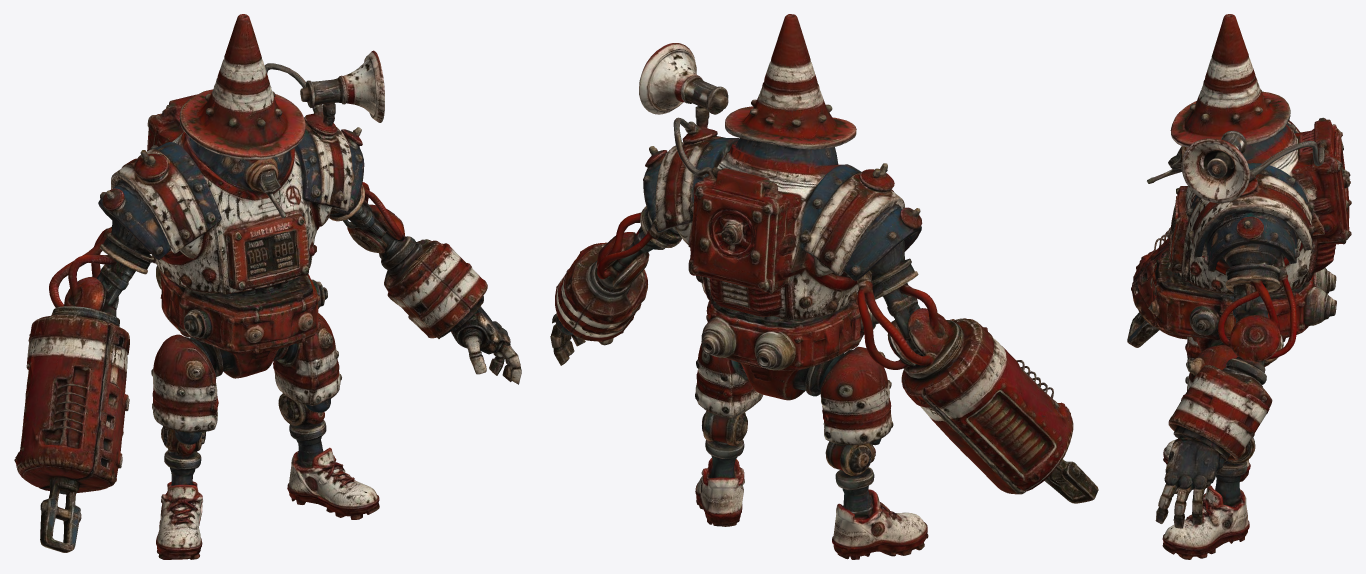
File: boss2.glb
3 views of the same model, side by side, from view 1: azimuth 30°, elevation 25°; view 2: azimuth 150°, elevation 25°; view 3: azimuth 270°, elevation 25° (orthographic). The views are drawn at different scales.
Size of the model in its own units: 1.9 by 1.85 by 0.7603.
1 material, 1 textured.
